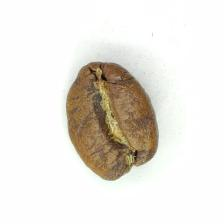NG: (77, 67, 150, 170)
